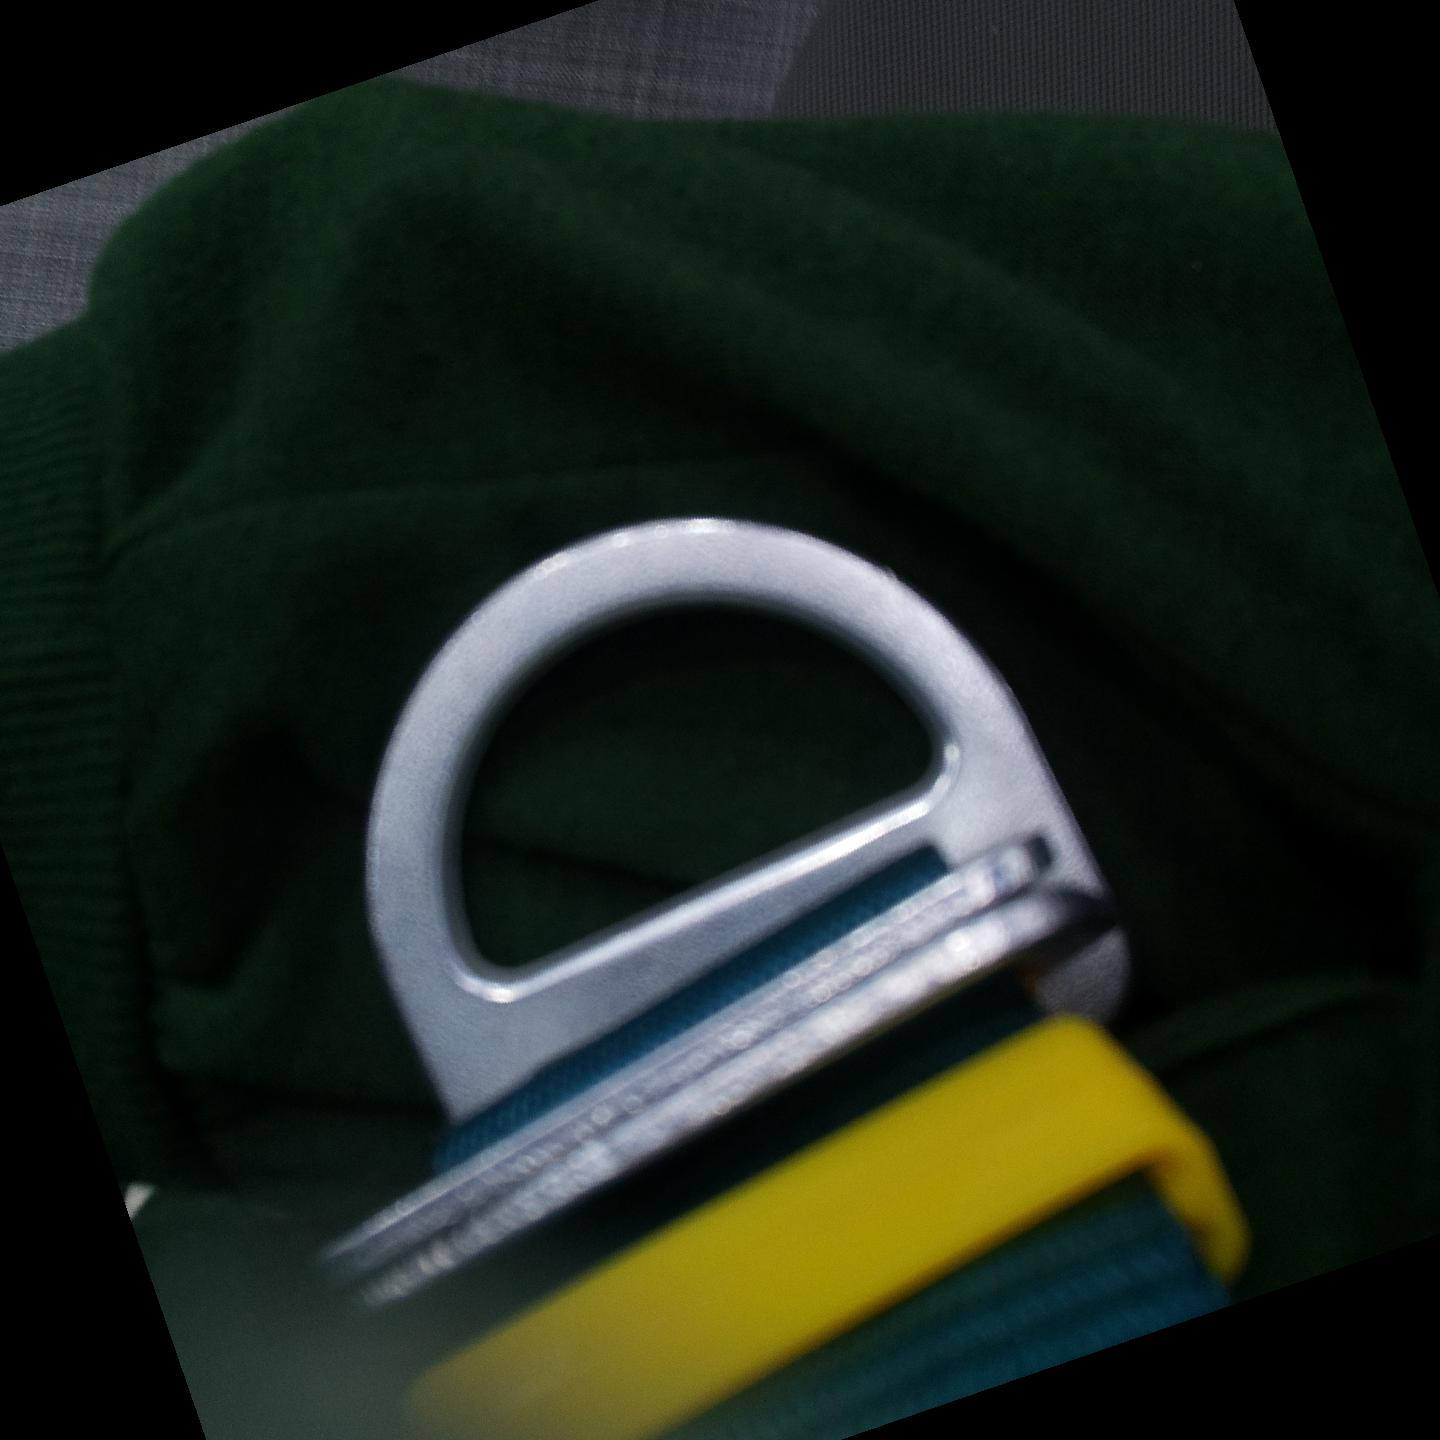UNSUCCESS: (301, 510, 1083, 940)
